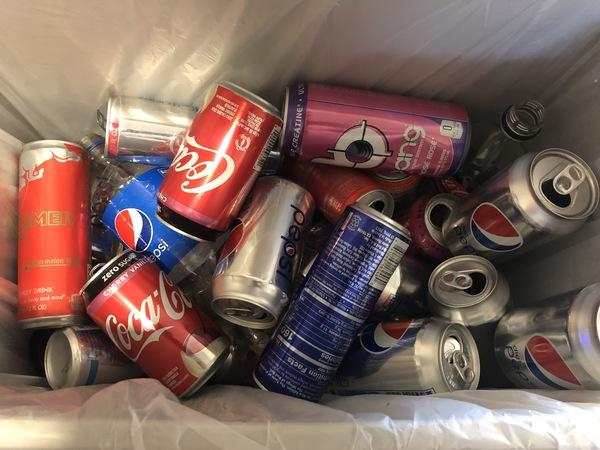metal: (222, 175, 412, 394), (88, 253, 241, 392), (415, 151, 600, 258), (280, 82, 472, 184), (164, 75, 283, 222), (18, 141, 90, 328), (500, 286, 600, 395), (334, 322, 490, 388), (425, 258, 518, 328), (91, 95, 198, 155), (34, 325, 122, 387)
